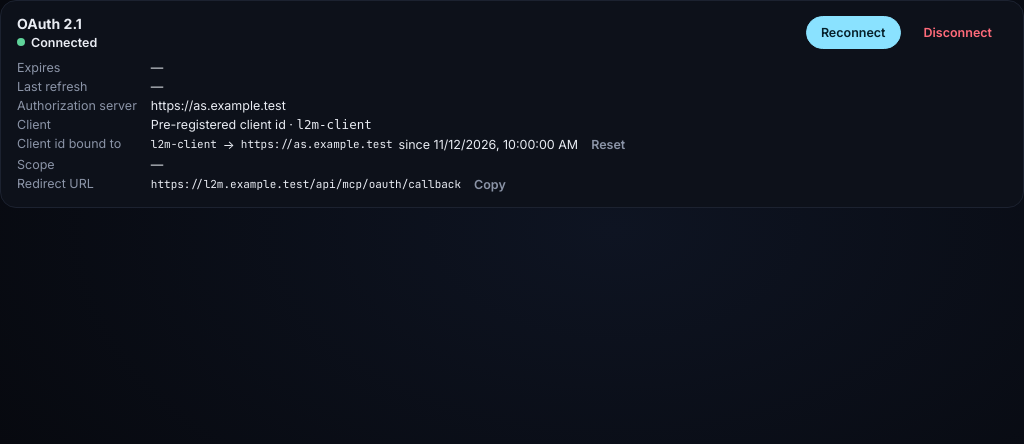
Test: McpOAuthPanel issuer binding › shows the bound authorization server and lets an admin reset it after confirming
Expected: the text "Client id bound to" is shown, [17,136,137,152]
Click the button "Reset" at (608, 144), box [584,136,632,152]
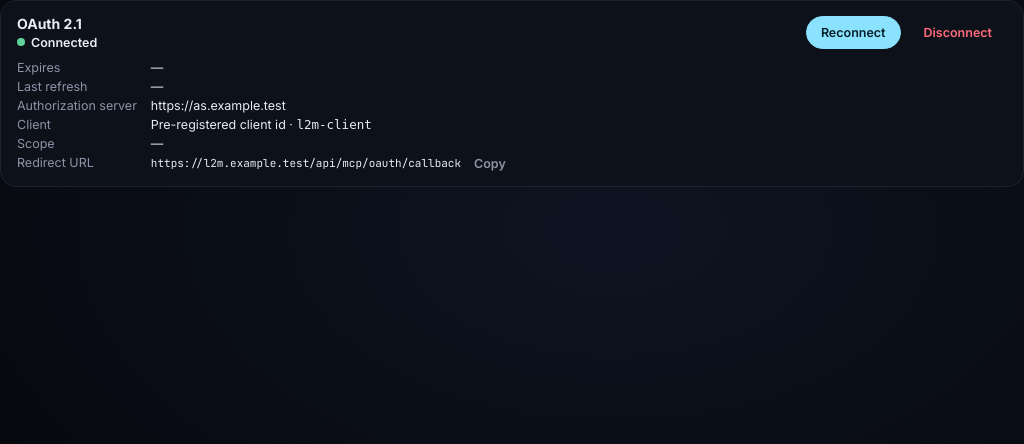
Expected: the text "Client id bound to" is gone
